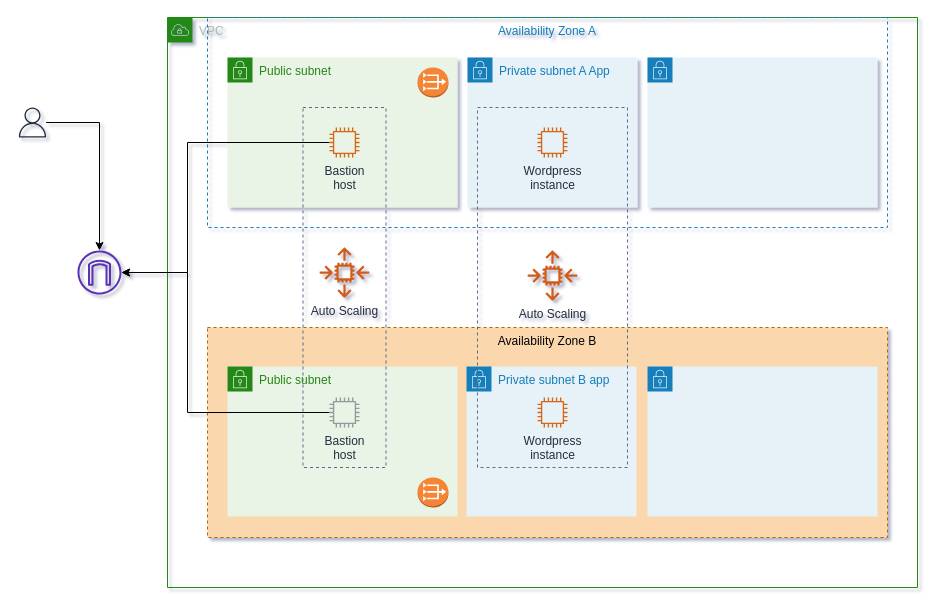
Image size: 941x611. Some labels were removed from this diagram. Here are the shapes that lost their labels. From the top down, the centre of each, then its label:
At (762,132): "Private subnet A Data".
At (99,272): "Internet gateway".
At (762,441): "Private subnet B data".
